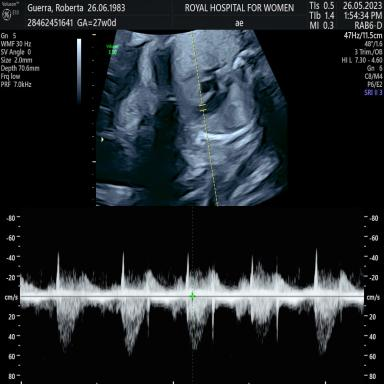Ultrasound-Waves: (22, 217, 362, 375)
